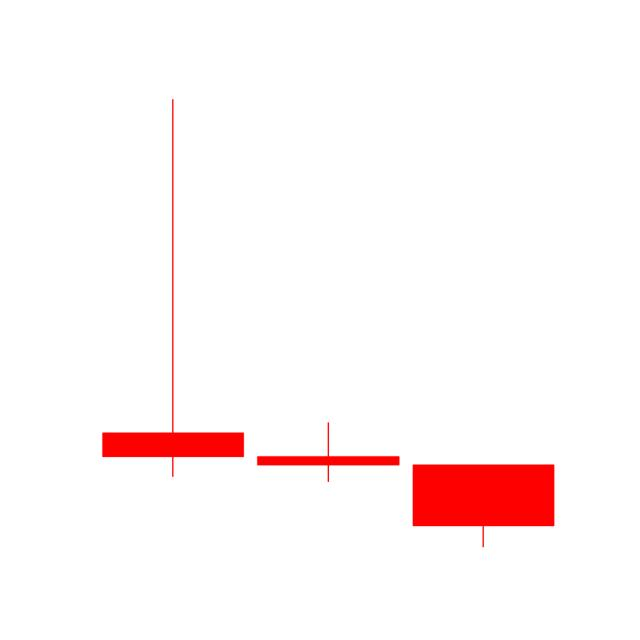Shooting Star: (98, 90, 247, 478)
Standard Doji: (254, 420, 406, 482)
